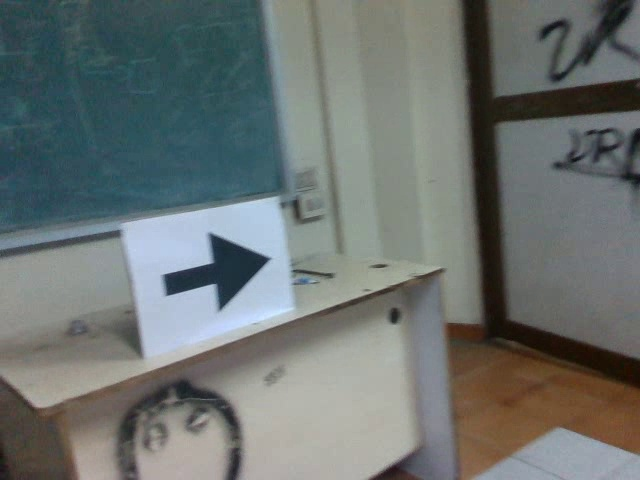Right: (154, 229, 273, 317)
